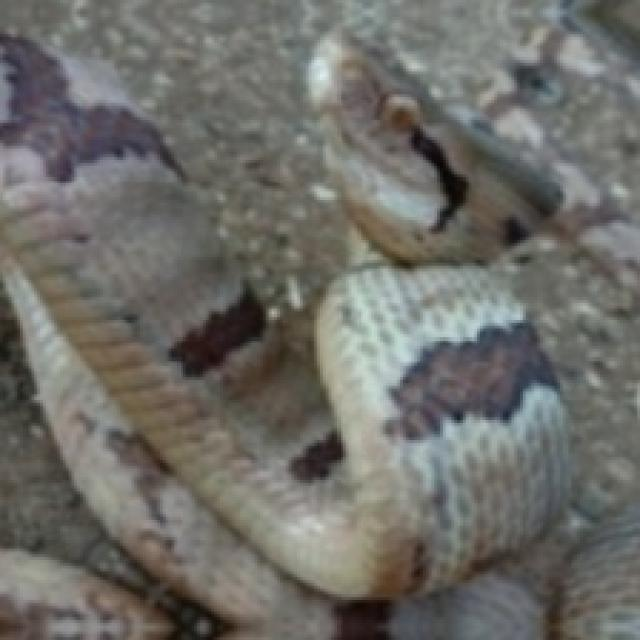dog-toothed cat snake: (0, 32, 640, 640)
